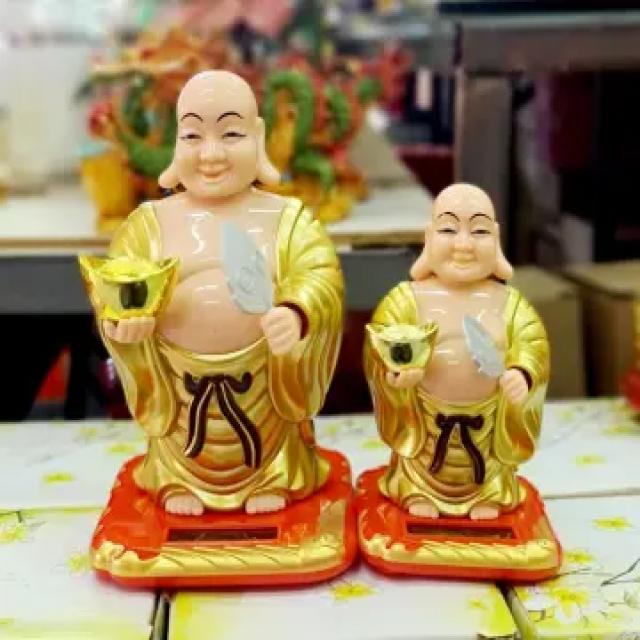Smiling Buddha: (90, 70, 337, 447), (374, 179, 554, 496)
